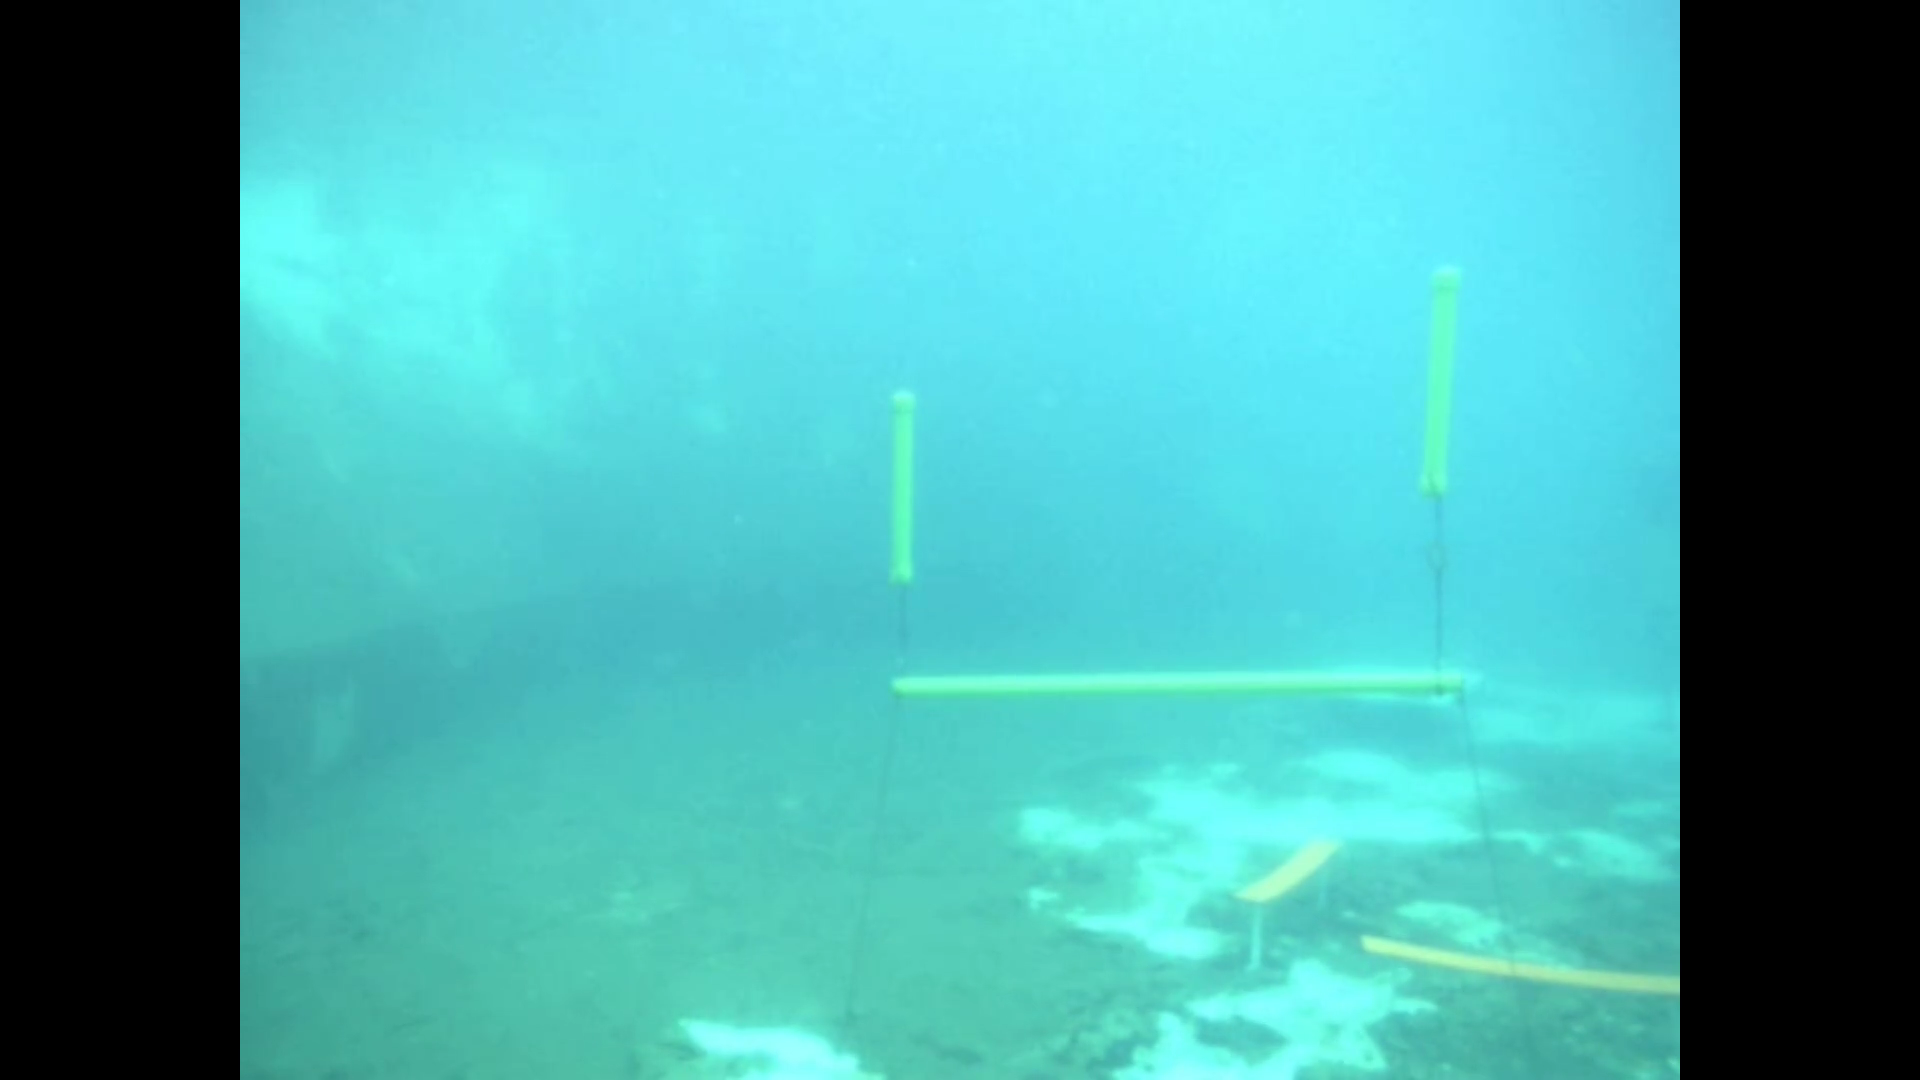gate: (874, 256, 1472, 719)
